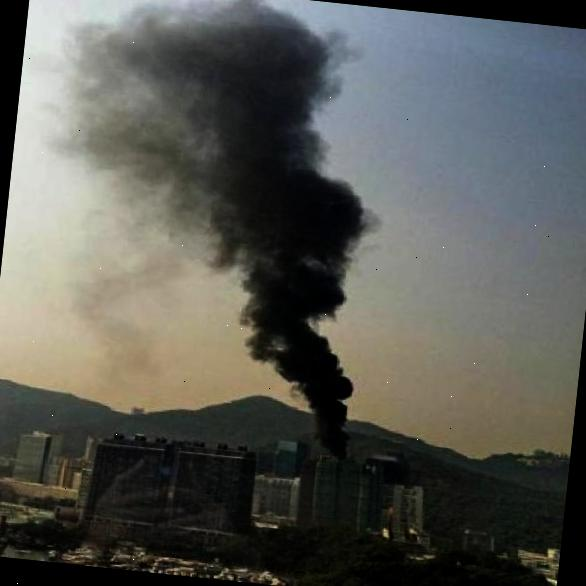smoke: (95, 2, 300, 141), (156, 155, 350, 242), (249, 253, 346, 321), (262, 364, 361, 399), (238, 322, 317, 363), (317, 396, 351, 459)
